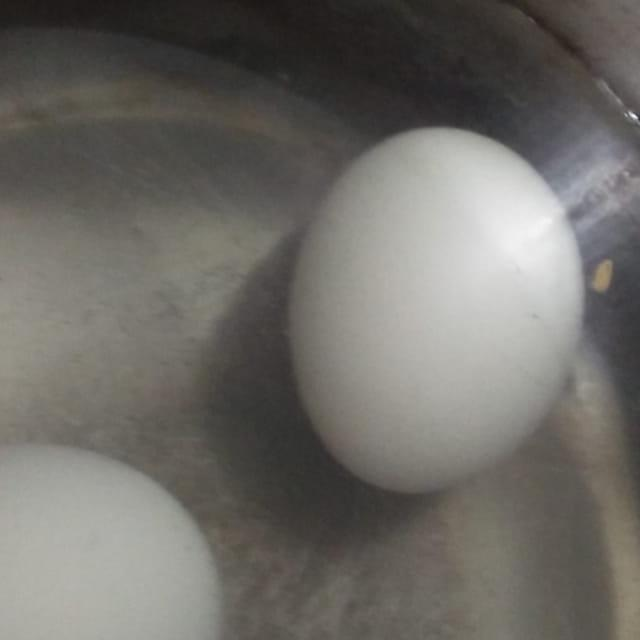egg: (300, 137, 573, 479), (0, 447, 244, 640)
